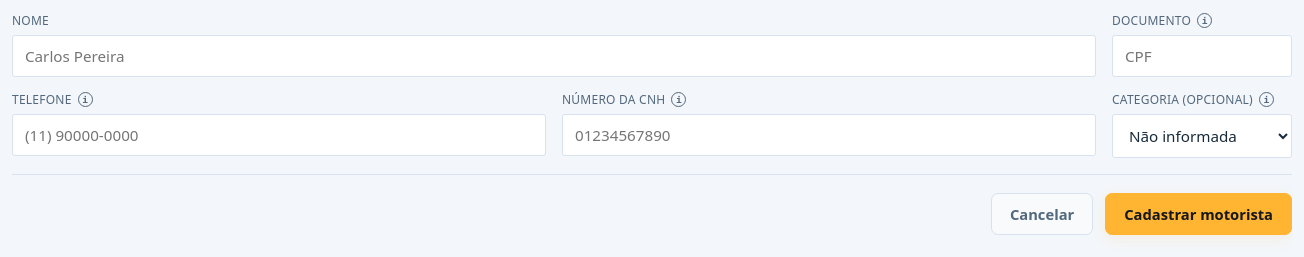
DriverForm › mascara documento e telefone, e explica a CNH numa dica
The image size is (1304, 257).
In the field labelled "DOCUMENTO": (1202, 56) top-left (1112, 35), bottom-right (1292, 77), type "12345678901"
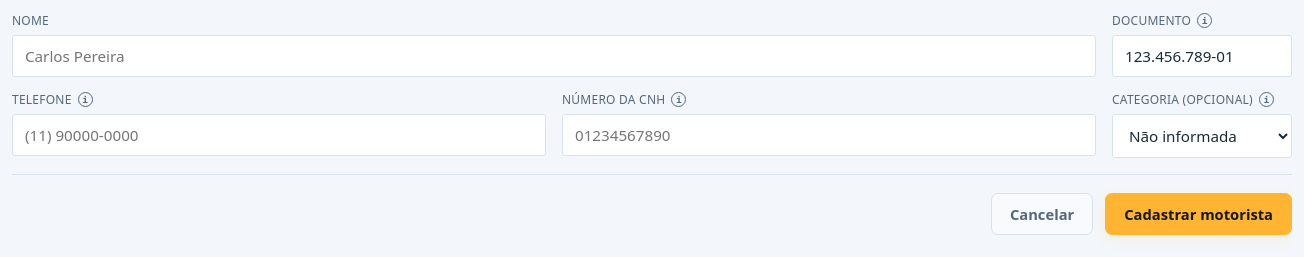
Expected: the field labelled "DOCUMENTO" holds "123.456.789-01", top-left (1112, 35), bottom-right (1292, 77)
In the field labelled "TELEFONE": (279, 135) top-left (12, 114), bottom-right (546, 156), type "42999998888"
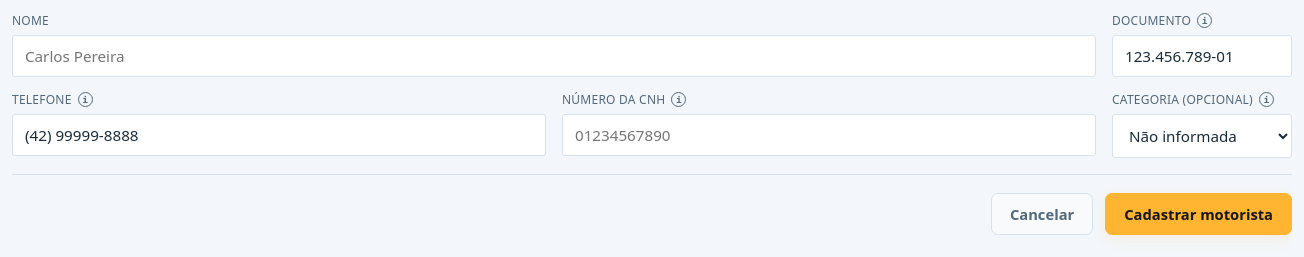
Expected: the field labelled "TELEFONE" holds "(42) 99999-8888", top-left (12, 114), bottom-right (546, 156)
a dica da CNH existe porque confundir com CPF é o erro comum
Focus the button named "Sobre número da cnh": (679, 100) top-left (671, 92), bottom-right (686, 107)
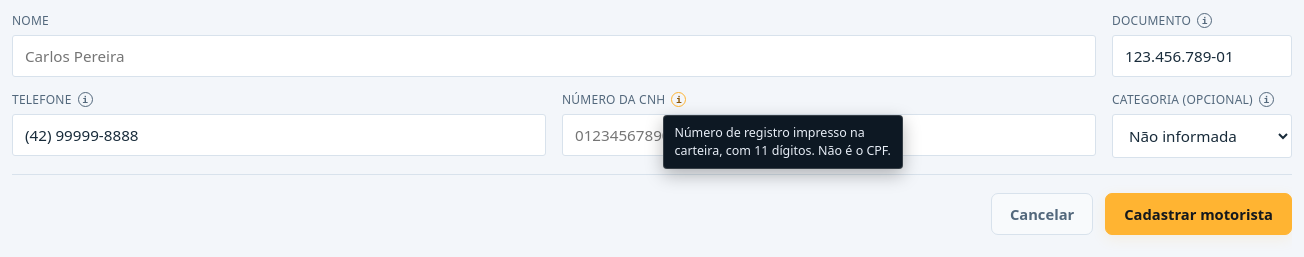
Expected: the tooltip shows "Não é o CPF", top-left (674, 124), bottom-right (891, 159)
